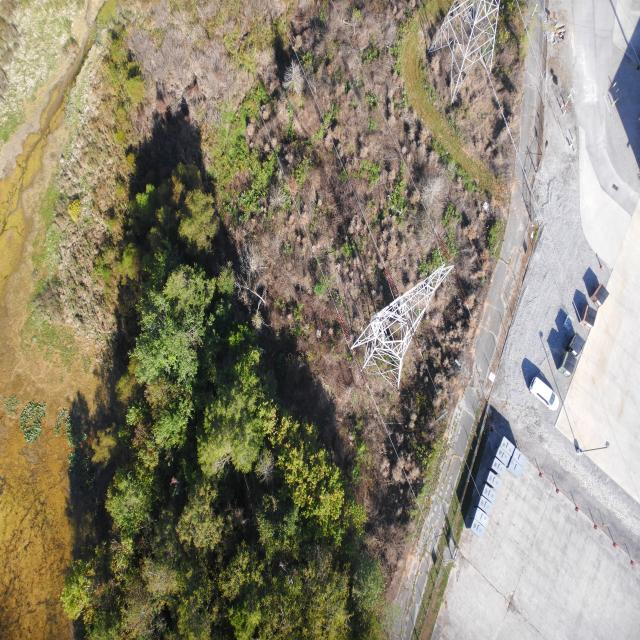Area of Interest: (95, 195, 368, 629)
